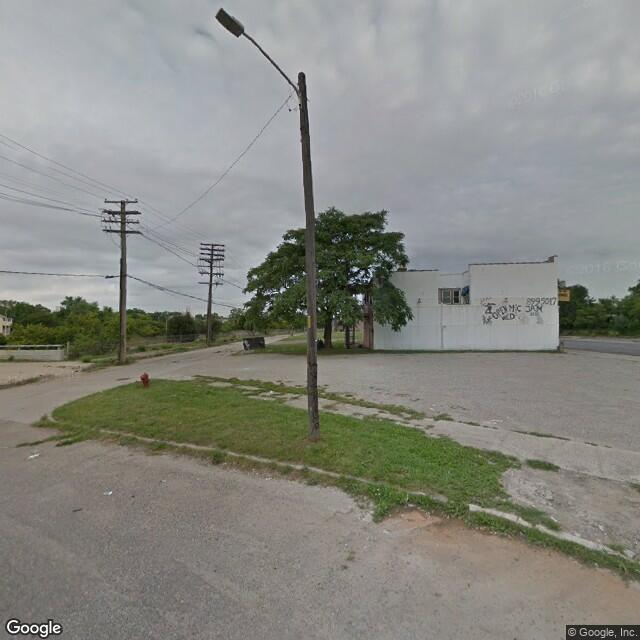litter: (262, 383, 280, 399), (20, 451, 48, 461), (99, 485, 115, 500)
